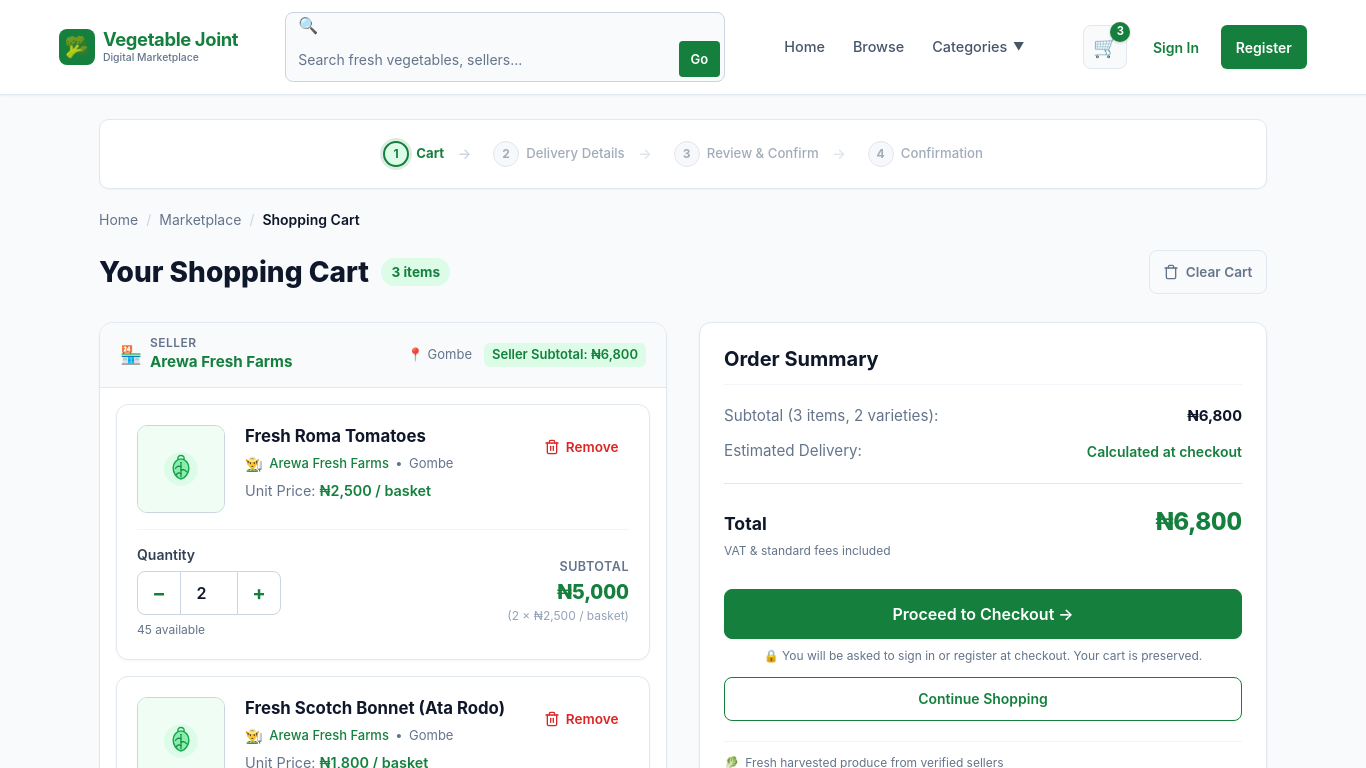
Test case: FE-114 E2E: Buyer Purchase Journey (TC-08 to TC-16) › TC-10: Remove product from cart (CART-03) › removes product from cart and updates totals and navbar count
Check: the element with test id "cart-item-1" is shown, box [116,404,650,660]
Check: the text with test id "navbar-cart-badge" reads "3", box [1117,24,1124,38]
# Remove product 2 (Scotch Bonnet)
Click the button with test id "cart-remove-button-2". click: click(581, 719)
box: [534,697,629,741]
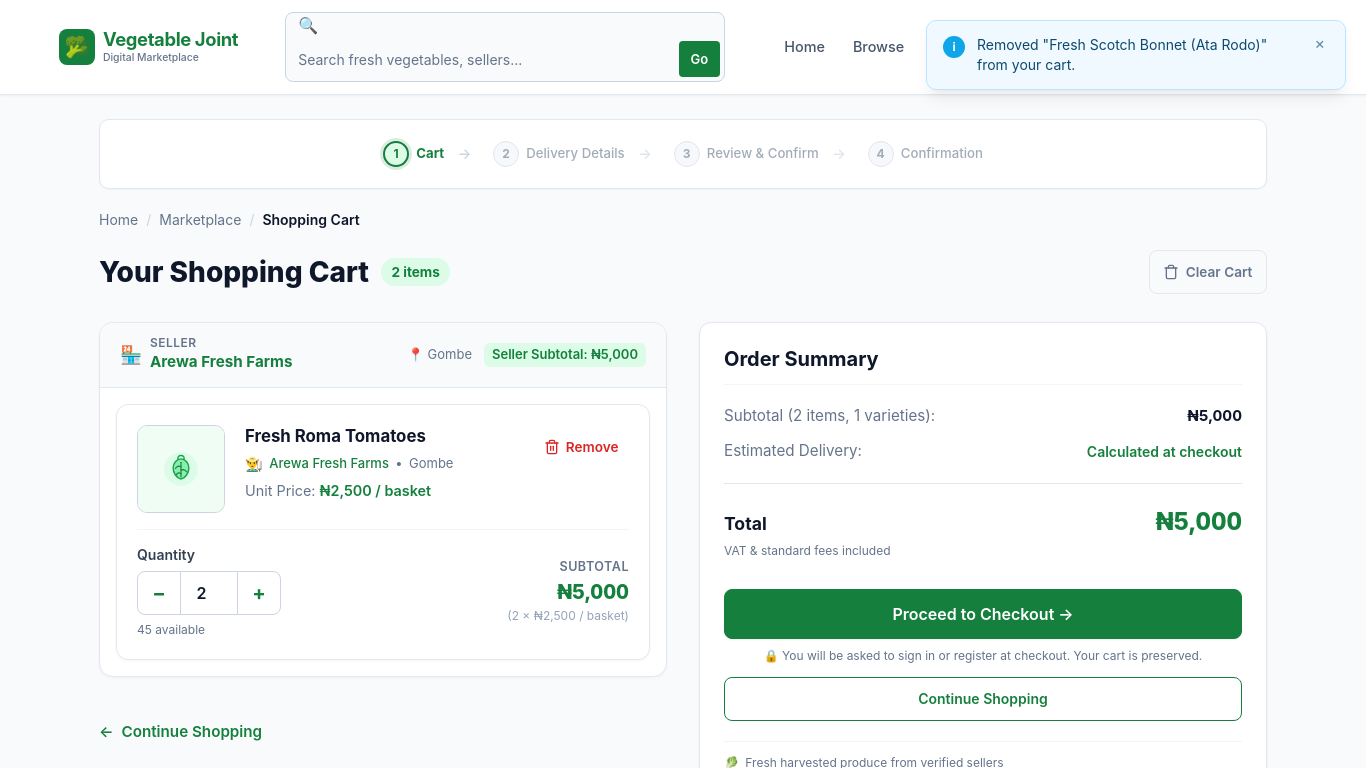
Check: the element with test id "cart-item-1" is shown, box [116,404,650,660]
Check: the text with test id "cart-grand-total" reads "₦5,000", box [1156,507,1242,536]
Check: the text with test id "navbar-cart-badge" reads "2", box [1117,24,1124,38]
Click the button with test id "cart-remove-button-1". click: click(581, 447)
box: [534,425,629,469]
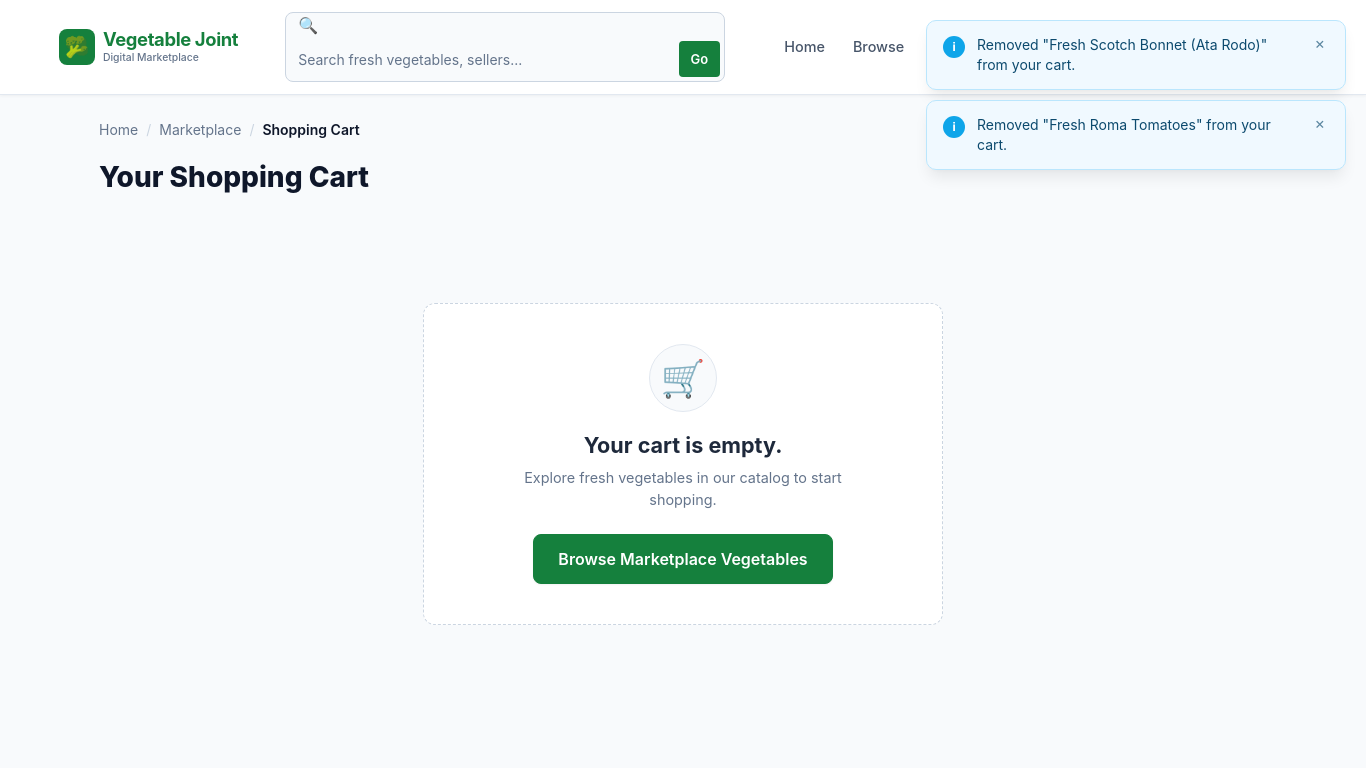
Check: the element with test id "empty-cart-state" is shown, box [423,303,943,625]
Check: the heading "Your cart is empty." is shown, box [584,432,782,458]
